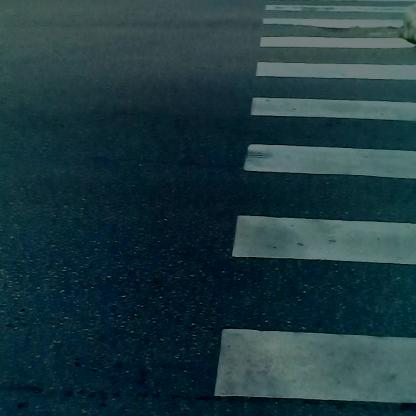crosswalk: (229, 11, 413, 416)
